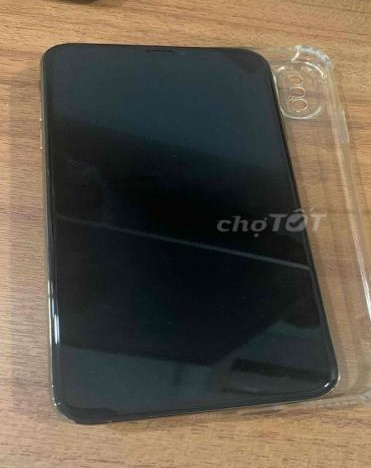scratch: (313, 375, 339, 393), (48, 395, 70, 410)
